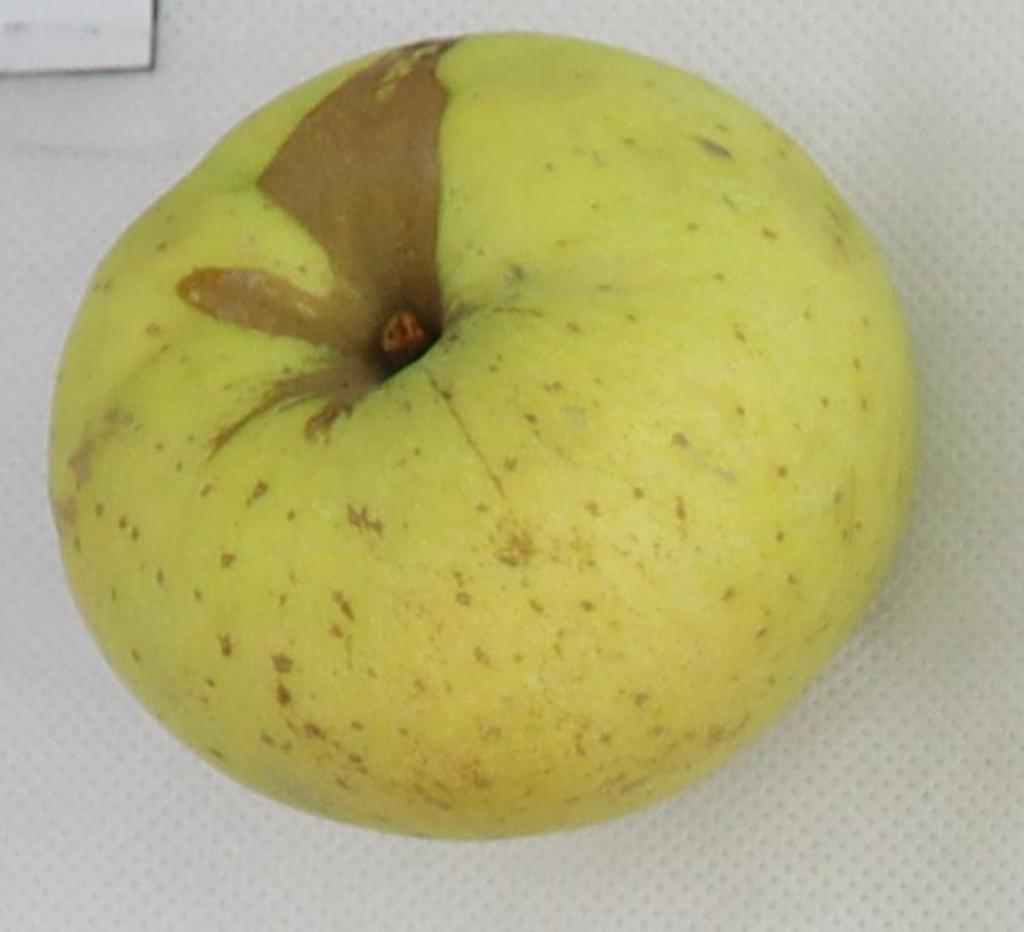apple: (49, 34, 913, 835)
bruise_discoloration: (178, 40, 452, 449)
